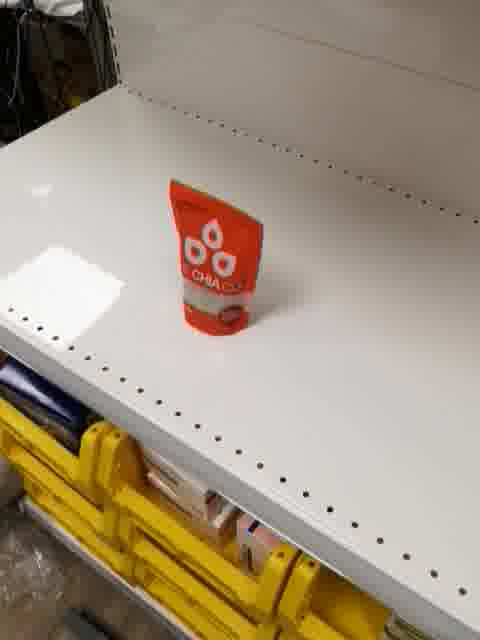whitechia: (168, 174, 266, 339)
